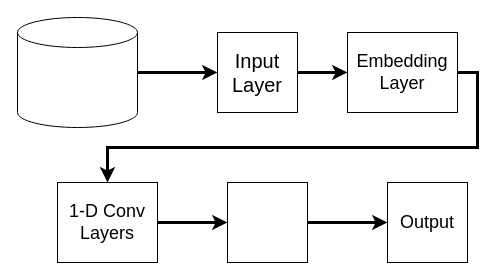
Image size: 504x280. Some labels were removed from this diagram. The shapes that lost their labels are listed below. From the top down, each one's centre as x and y in pixels, then its label:
At (77,72): "SMILES Data".
At (267,222): "Dense Layers".
